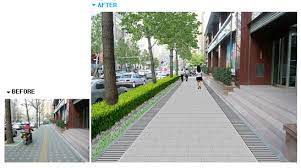guide_blocks: (41, 127, 48, 162)
